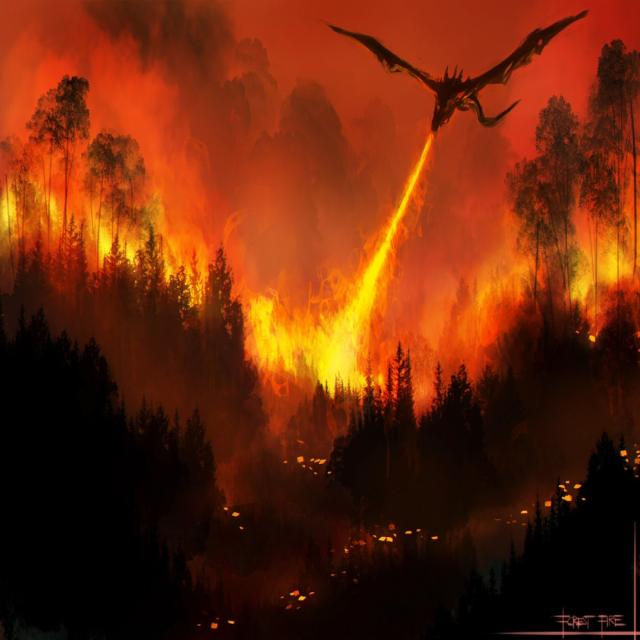Fire: (0, 131, 636, 402)
